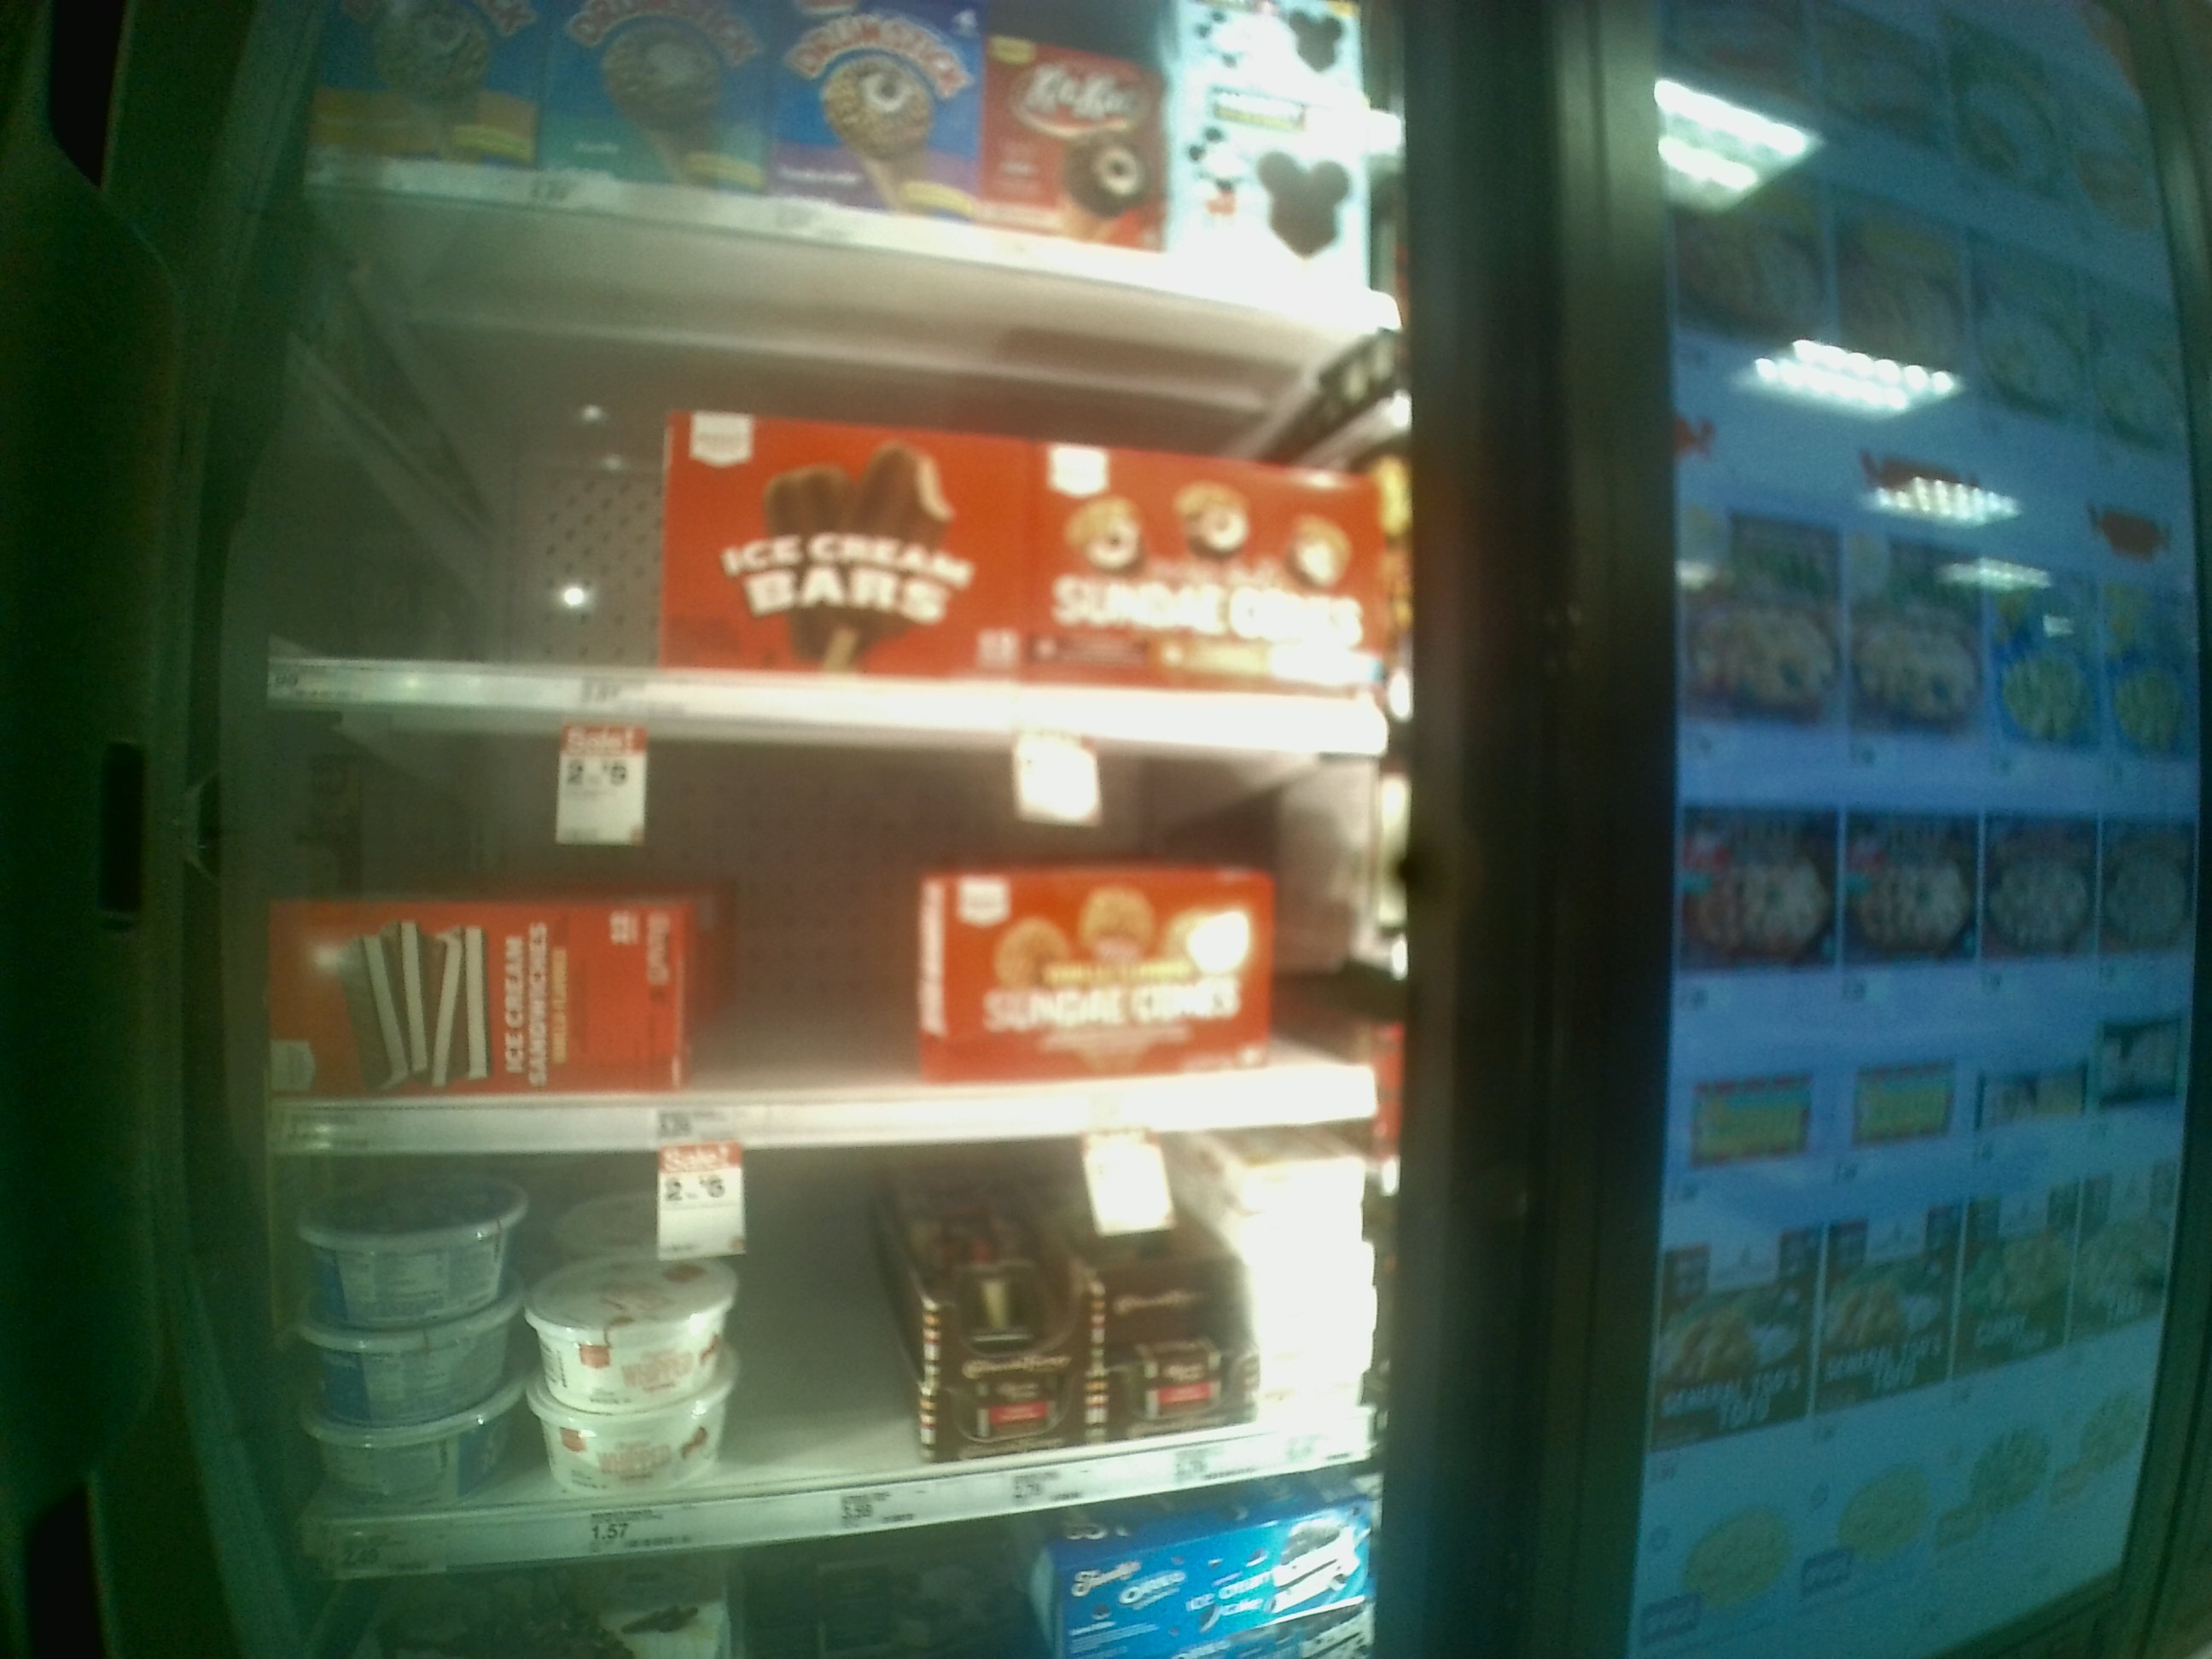shelf: (268, 181, 1395, 756), (275, 1108, 1423, 1579), (263, 706, 1406, 1145)
